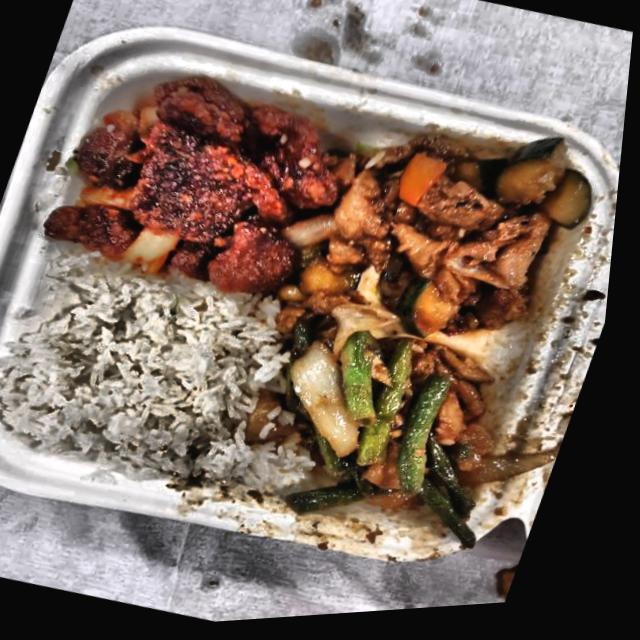Food: (282, 91, 628, 383), (33, 38, 373, 323), (243, 309, 551, 567), (0, 245, 292, 504)
